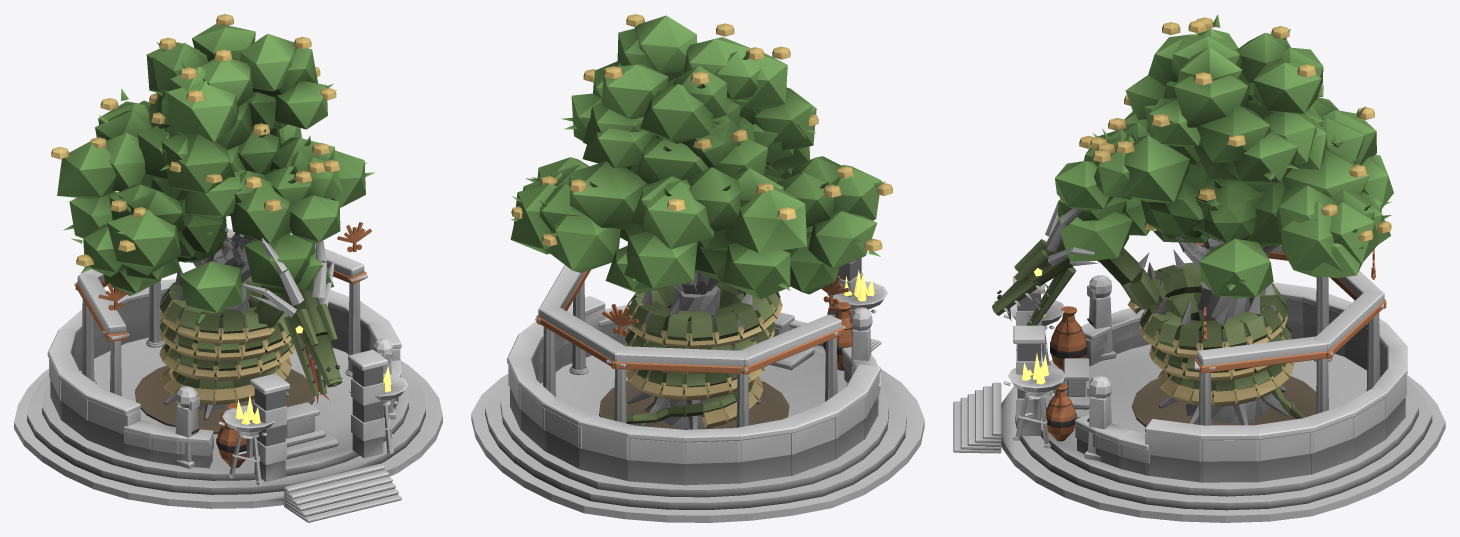
Rendered from hesperides-tree-l3.glb.
3 views of the same model, side by side, from view 1: azimuth 30°, elevation 25°; view 2: azimuth 150°, elevation 25°; view 3: azimuth 270°, elevation 25° (orthographic). The views are drawn at different scales.
Visible parts, largest first — view 1: hesperides-tree-l3; view 2: hesperides-tree-l3; view 3: hesperides-tree-l3.
Boxes of the visible parts, x1,y1,x2,y2 form: hesperides-tree-l3: (14,14,442,522); hesperides-tree-l3: (471,14,924,522); hesperides-tree-l3: (953,14,1445,522).
Bounding box in the file's own units: 1.52 × 1.5 × 1.68.
